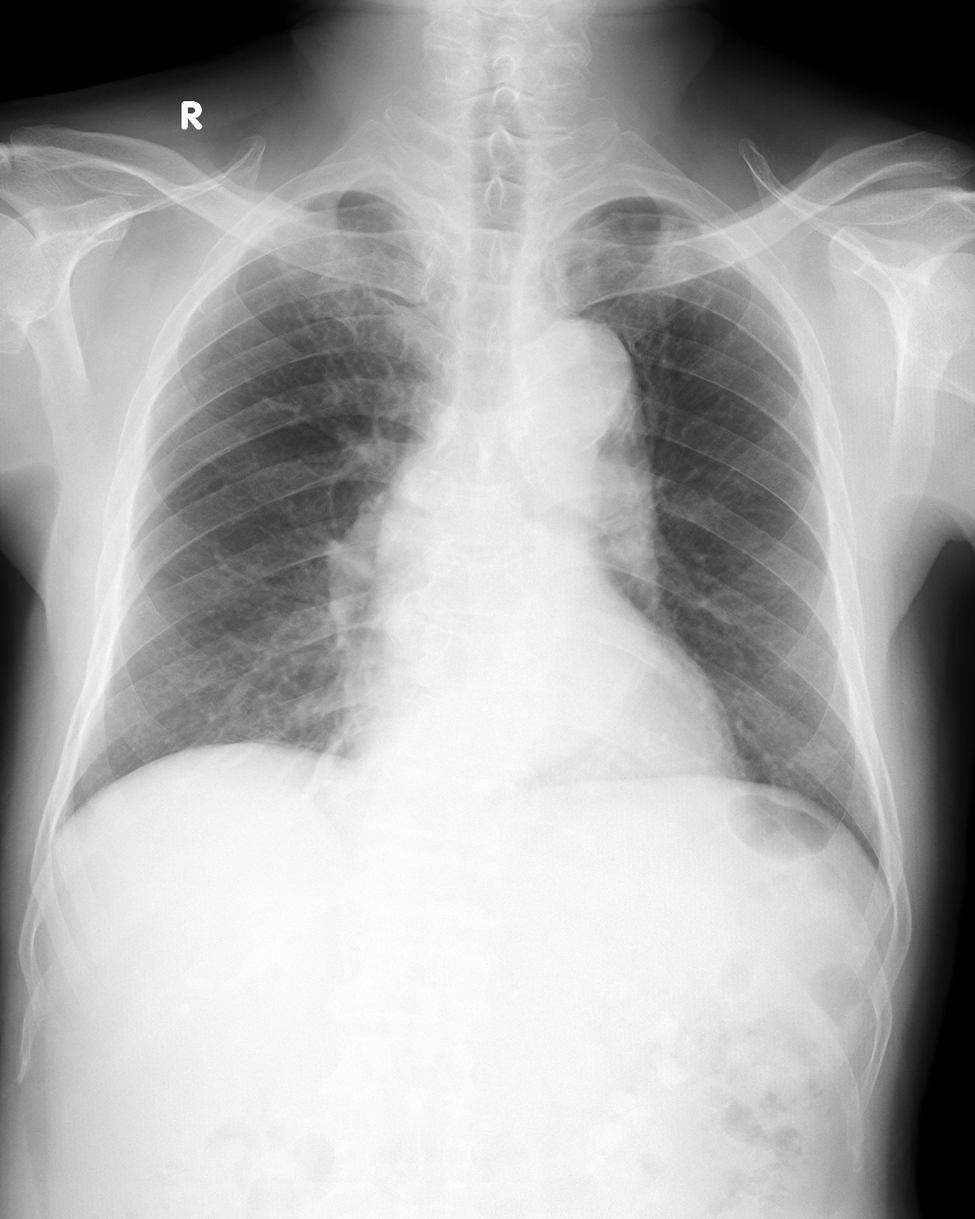Aortic enlargement: (508, 321, 636, 460)
Cardiomegaly: (348, 630, 739, 773)
